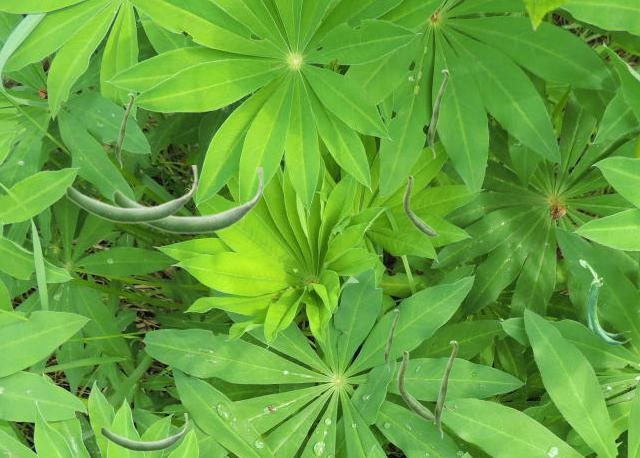french_bean: (112, 167, 263, 234), (65, 165, 197, 223), (579, 259, 630, 344), (100, 413, 187, 451), (397, 349, 433, 420), (434, 340, 457, 438), (403, 174, 438, 236), (427, 69, 448, 158), (115, 93, 133, 168), (384, 309, 398, 371)
